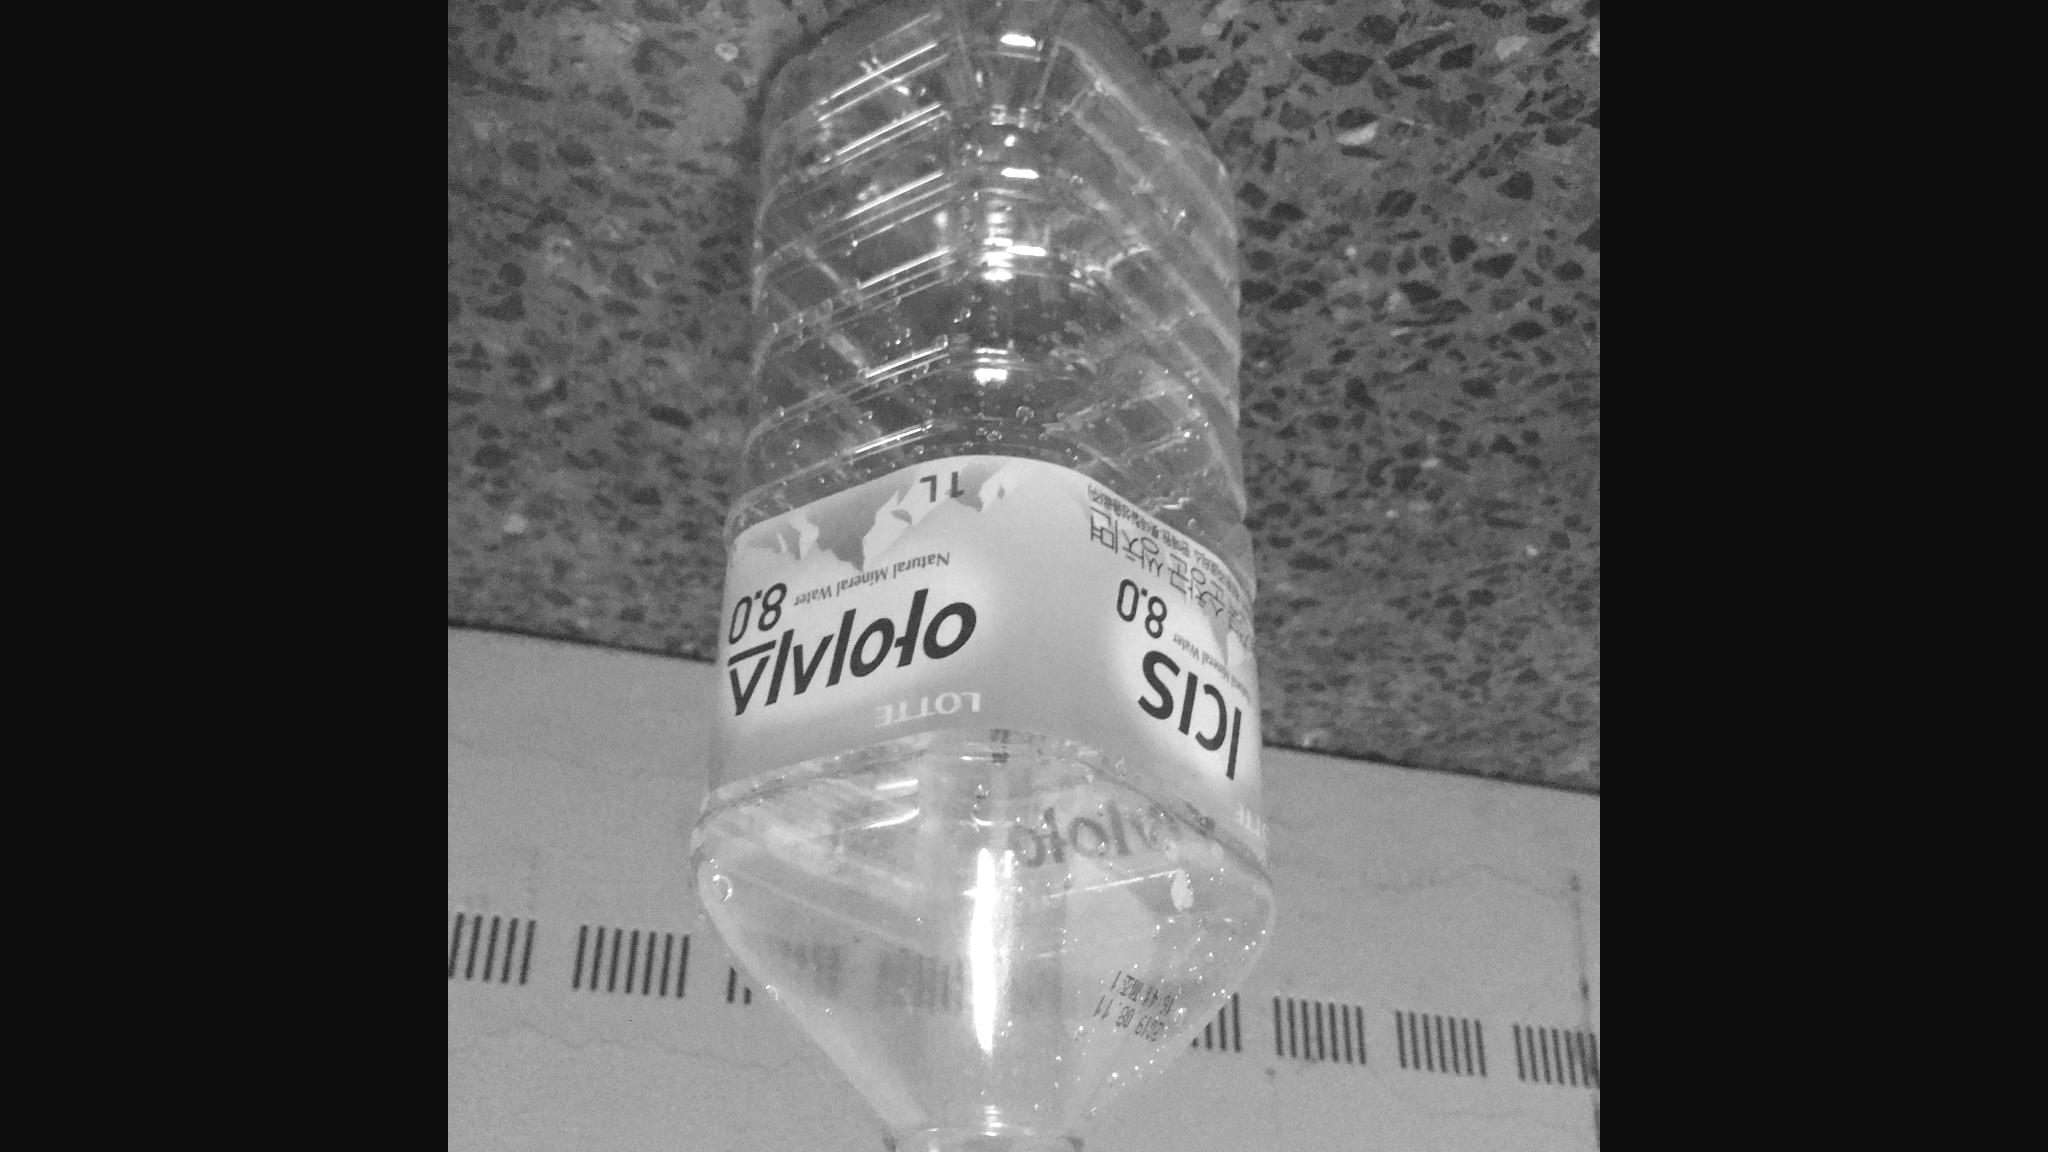bottle: (679, 0, 1293, 1152)
